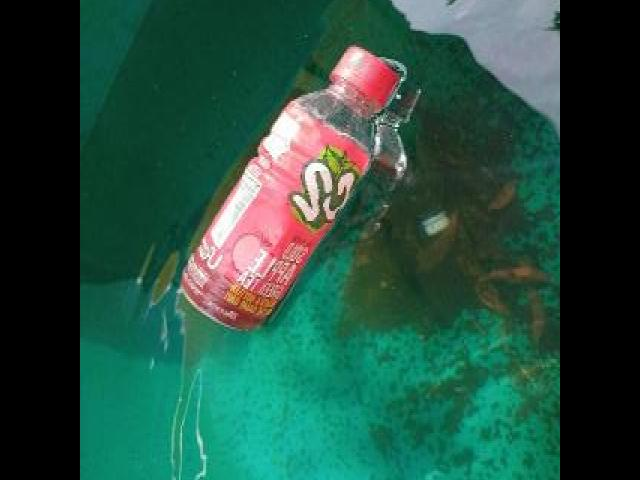Bottle: (172, 28, 408, 336)
